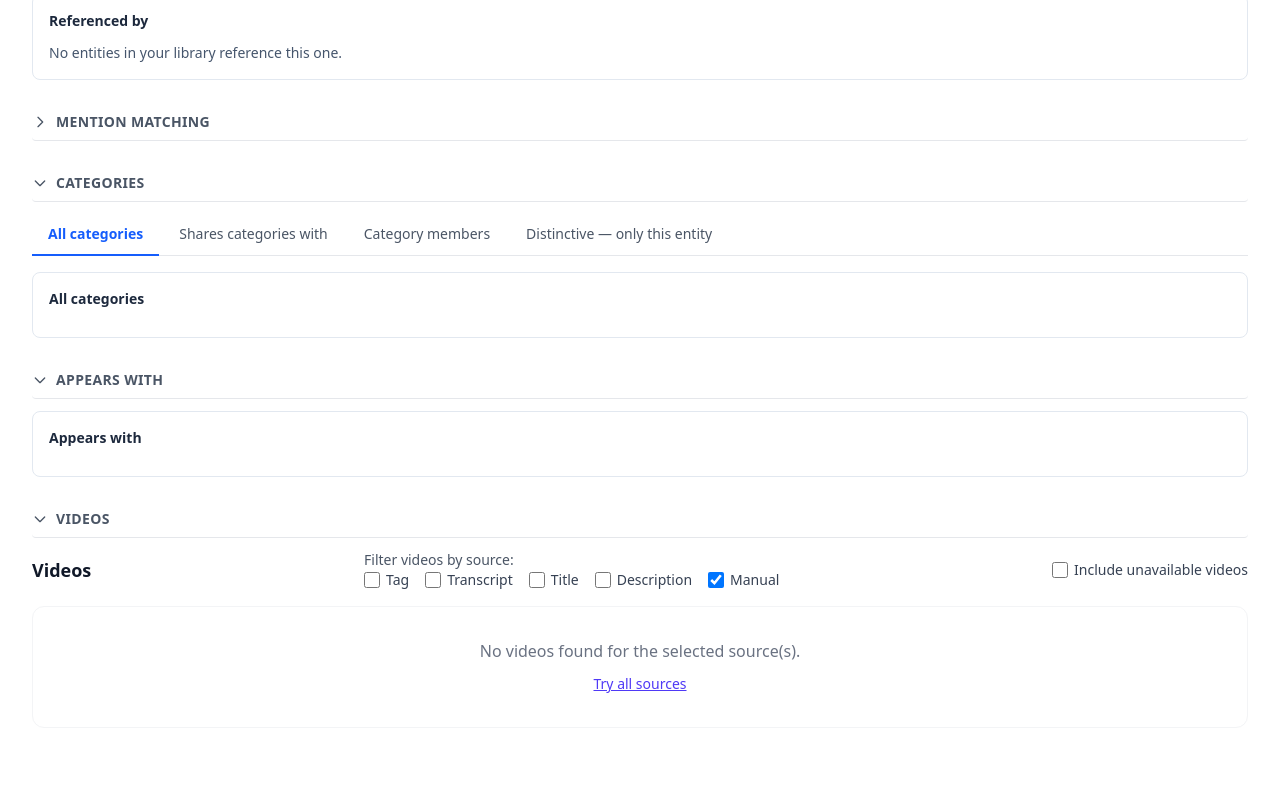
EntityDetailPage — source filter checkboxes (Feature 066, T019) › T061 — empty state for source-filtered zero results › clicking 'Try all sources' unchecks all checkboxes
The width and height of the screenshot is (1280, 800).
(page scrolled)
Click the button "Try all sources".
click(640, 684)  # box 594,674 -> 686,694
(page scrolled)
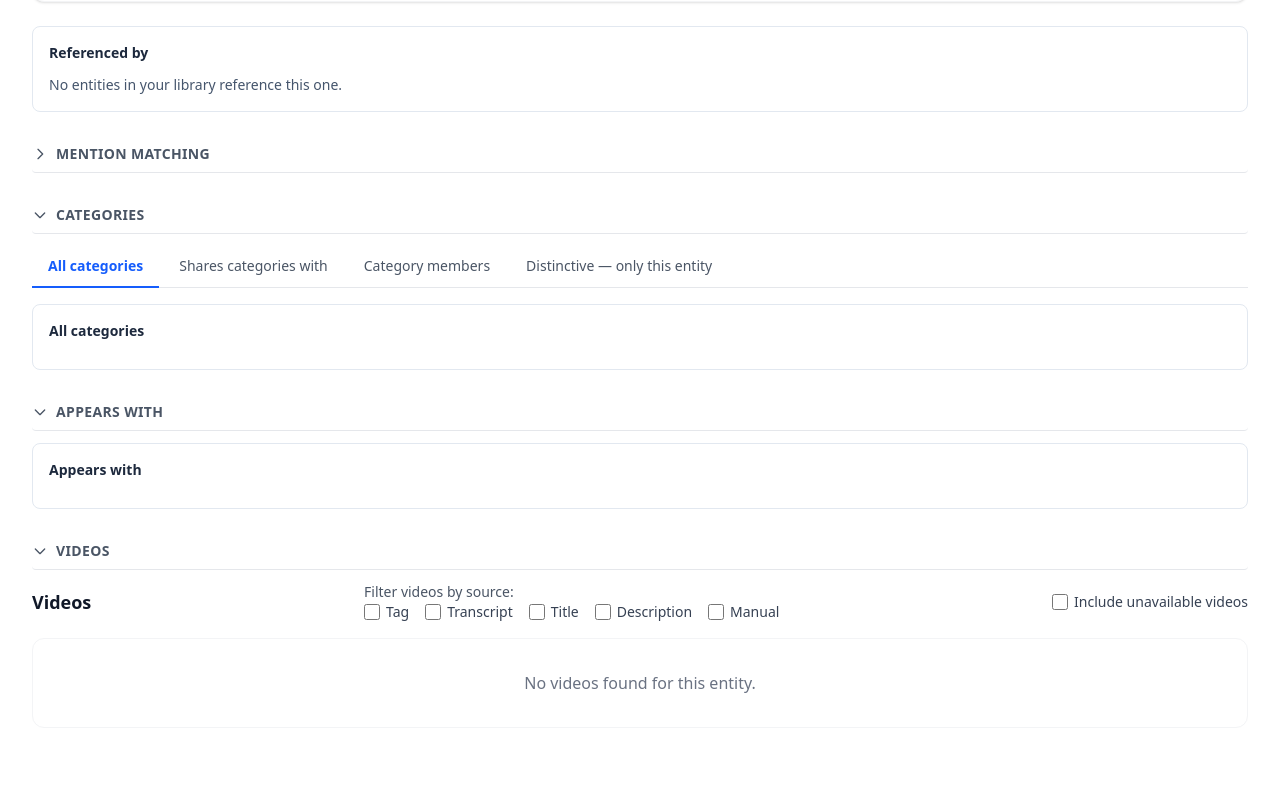
Now the checkbox labelled "Manual" is not checked, box 708,604 -> 724,620
